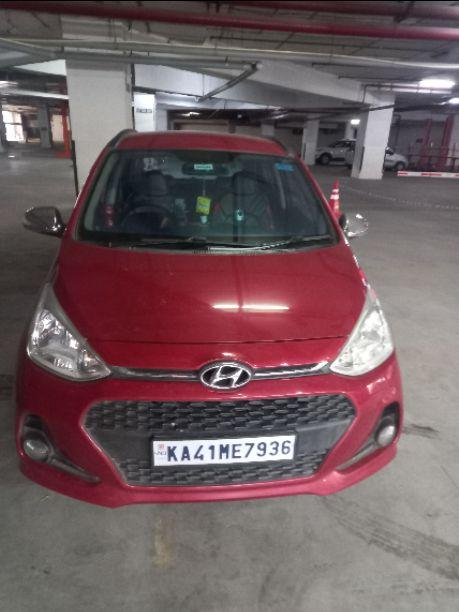license_plate: (149, 432, 297, 467)
